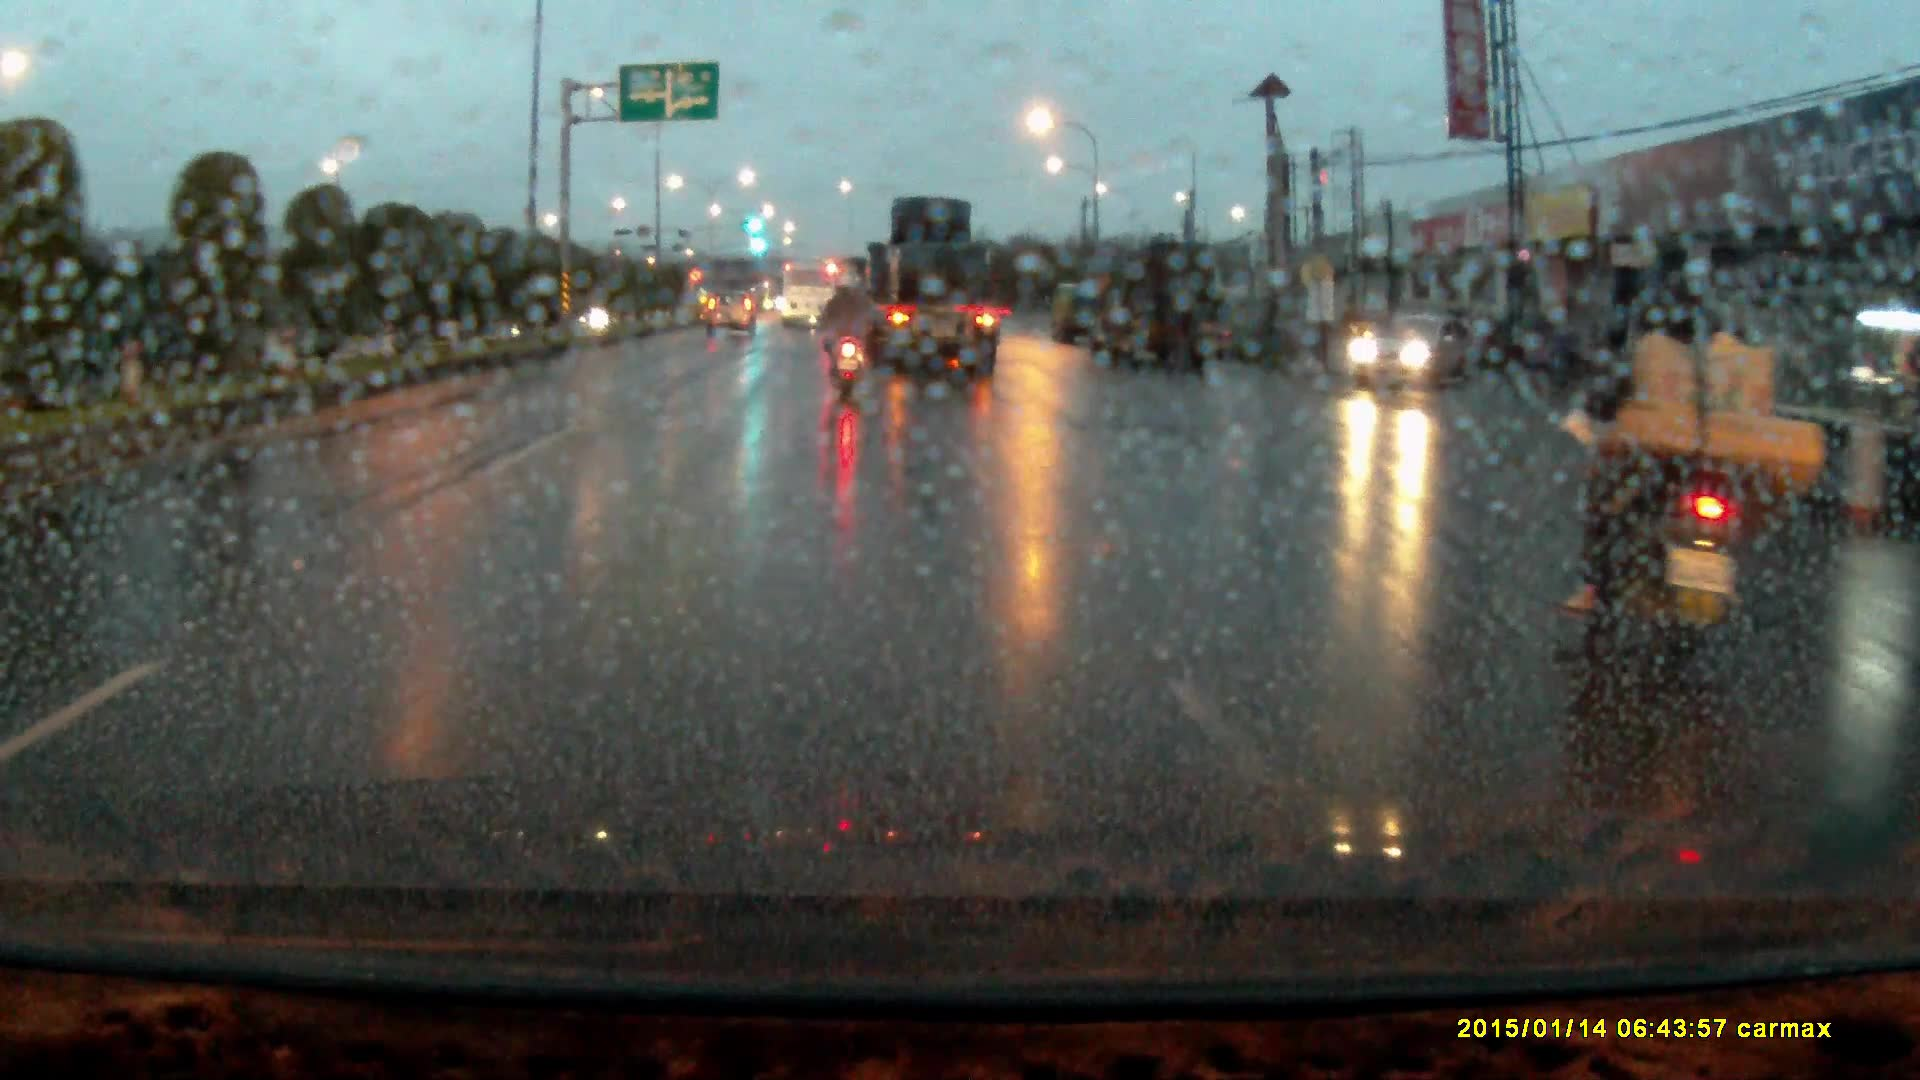rider: (1555, 249, 1841, 669), (821, 271, 877, 398)
vehicle: (856, 196, 995, 375), (1098, 240, 1234, 372), (1349, 313, 1475, 392), (783, 263, 848, 331), (1052, 280, 1103, 342), (706, 289, 758, 339)
